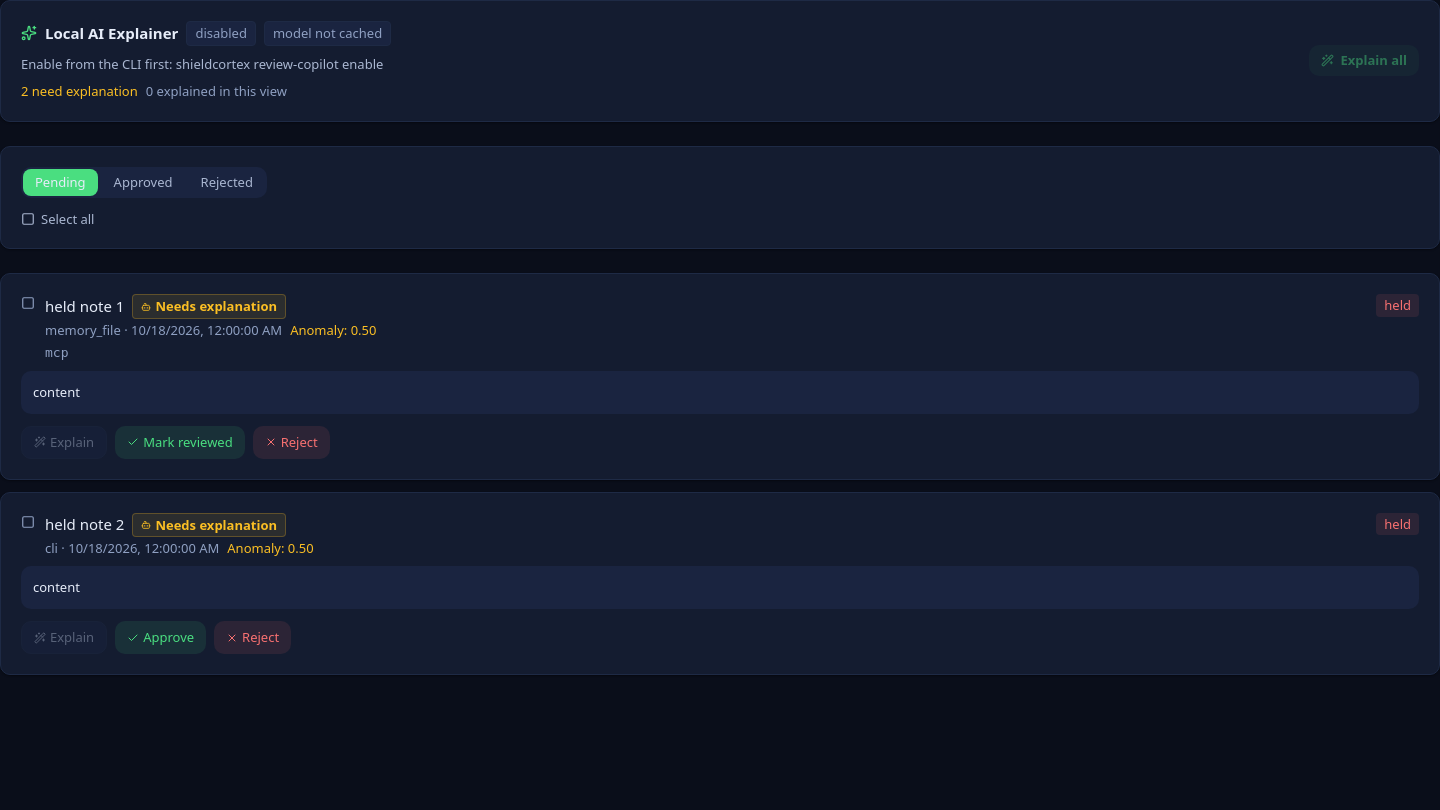
Scenario: QuarantineView approval notices (#824, #828) › the bulk approve dialog for memory-file findings and other items describes only what will happen
Click the button "Select all". click: {"x": 58, "y": 219}
box: [21,210,94,228]
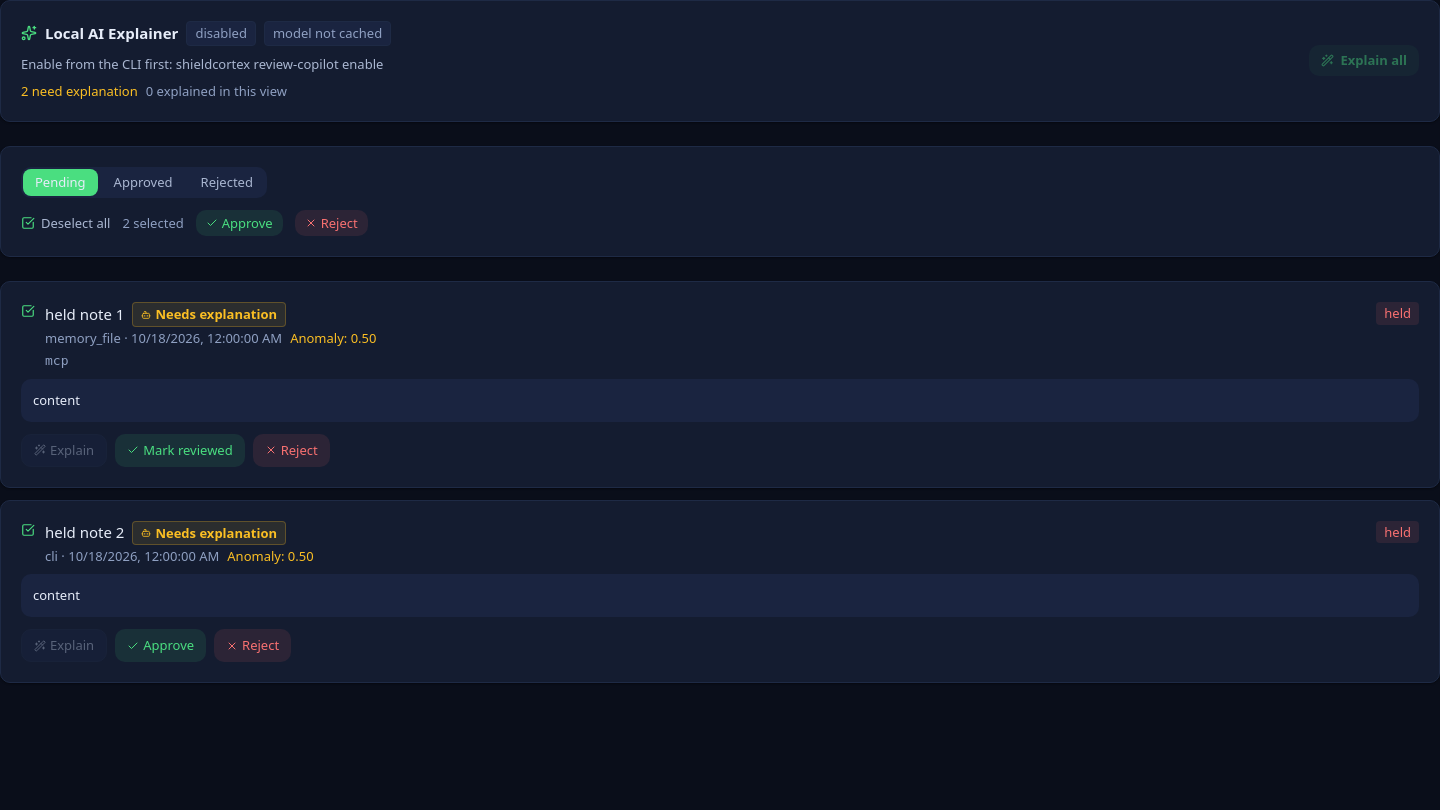
Click the button "Approve" next to "selected". click: {"x": 239, "y": 223}
box: [196,210,283,236]
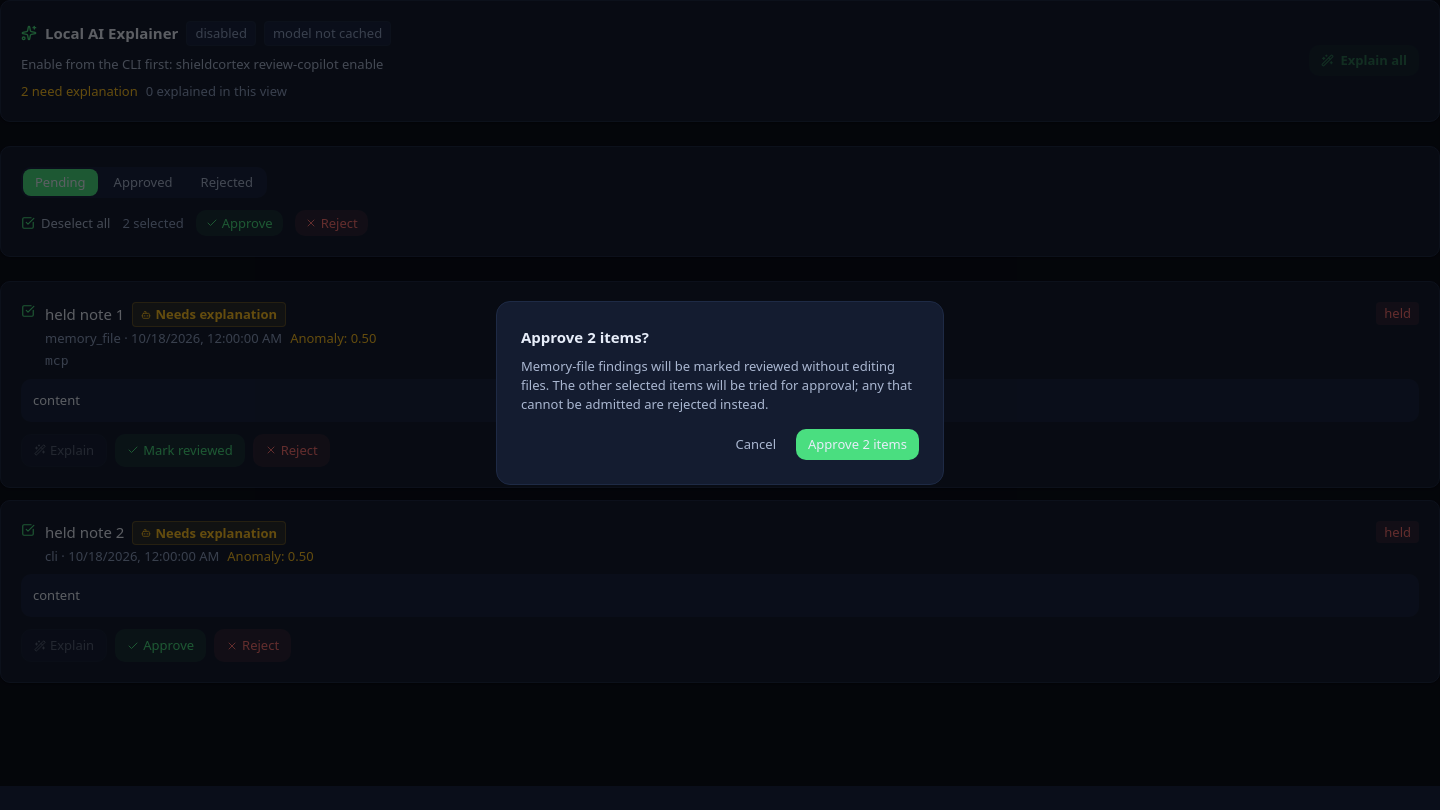
expect the text "Memory-file findings will be marked reviewed without editing files. The other selected items will be tried for approval;" is shown: met, box [521,357,912,413]
